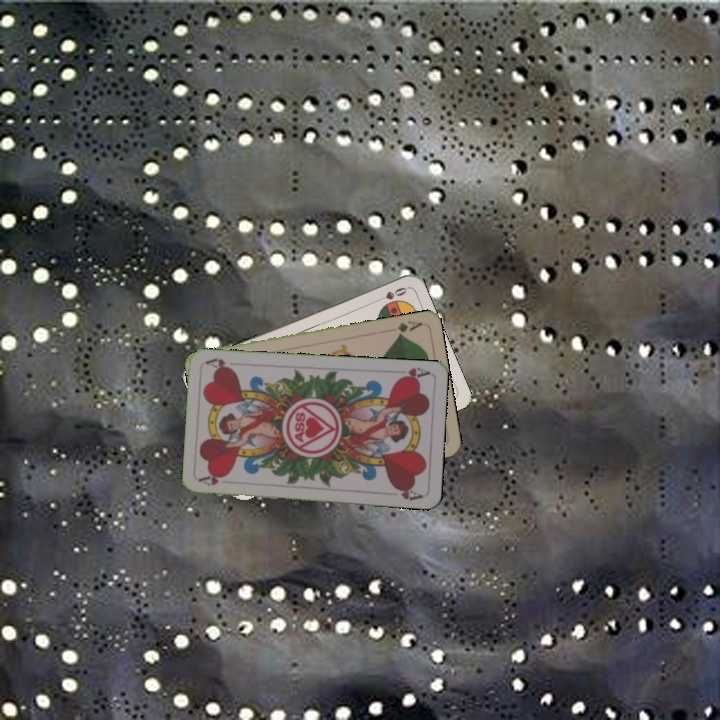GA: (385, 317, 425, 339)
HA: (393, 363, 432, 383), (196, 473, 225, 489)
SO: (370, 283, 410, 305)
